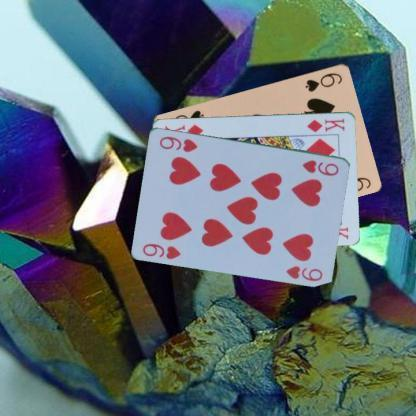6s: (302, 70, 344, 93)
9h: (140, 240, 182, 260), (300, 158, 340, 178)
Kd: (304, 116, 347, 134)
